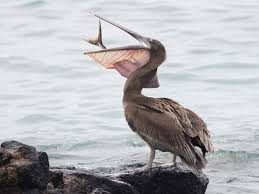pelican: (85, 10, 214, 171)
